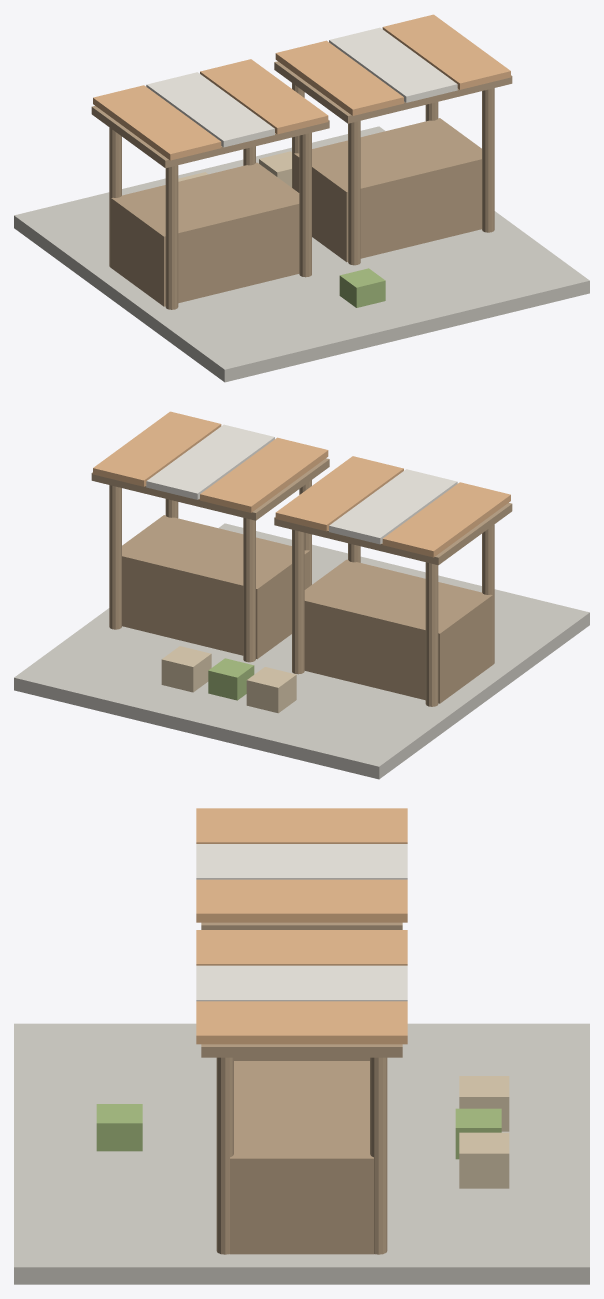
Rendered from MARKETPLACE.glb.
3 renders of one model, top to bottom at view 1: azimuth 30°, elevation 25°; view 2: azimuth 150°, elevation 25°; view 3: azimuth 270°, elevation 25°, orthographic. The views are drawn at different scales.
Visible parts, largest first — view 1: MARKETPLACE; view 2: MARKETPLACE; view 3: MARKETPLACE.
Boxes of the visible parts, bbox=[...] form: MARKETPLACE: bbox=[14, 14, 589, 382]; MARKETPLACE: bbox=[14, 411, 589, 779]; MARKETPLACE: bbox=[14, 808, 589, 1284].
Bounding box in the file's own units: 3 × 1.38 × 3.
